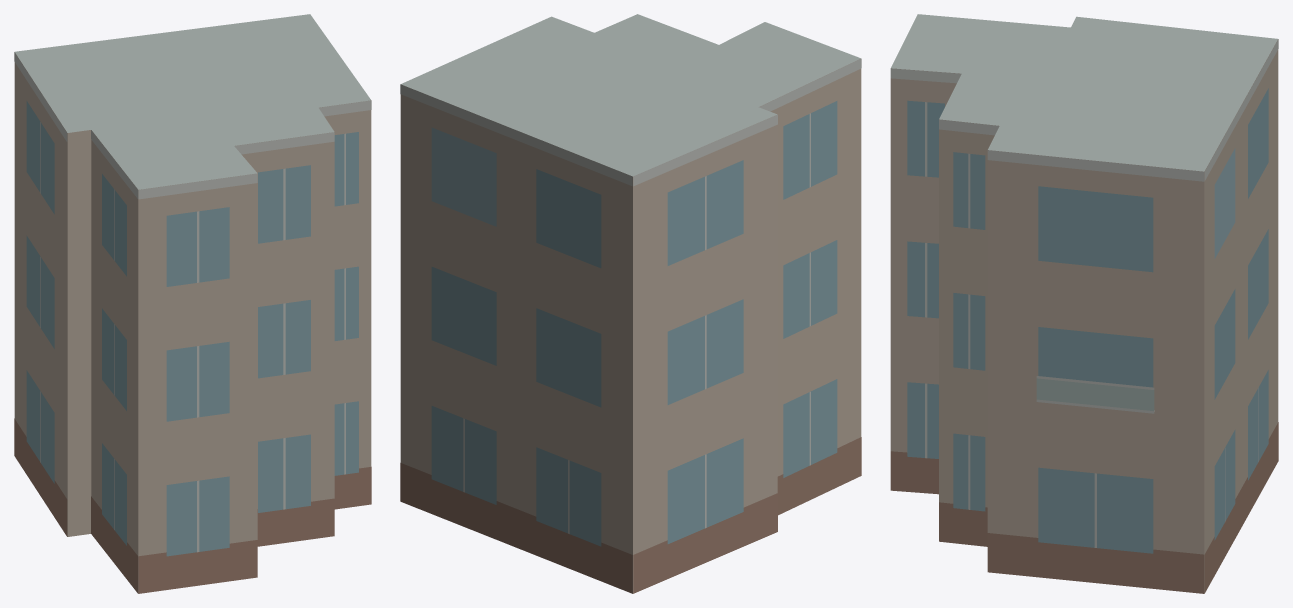
File: survey-upis-32486204.glb
3 renders of one model, left to right at view 1: azimuth 30°, elevation 25°; view 2: azimuth 150°, elevation 25°; view 3: azimuth 270°, elevation 25°, orthographic. The views are drawn at different scales.
Parts seen in each view (by area): view 1: survey-upis-32486204.tmp; view 2: survey-upis-32486204.tmp; view 3: survey-upis-32486204.tmp.
Part boxes in pixels (bbox=[...]): survey-upis-32486204.tmp: bbox=[14, 14, 371, 593]; survey-upis-32486204.tmp: bbox=[400, 14, 861, 593]; survey-upis-32486204.tmp: bbox=[890, 14, 1278, 593].
Bounding box in the file's own units: 8.18 × 10.2 × 8.5.
